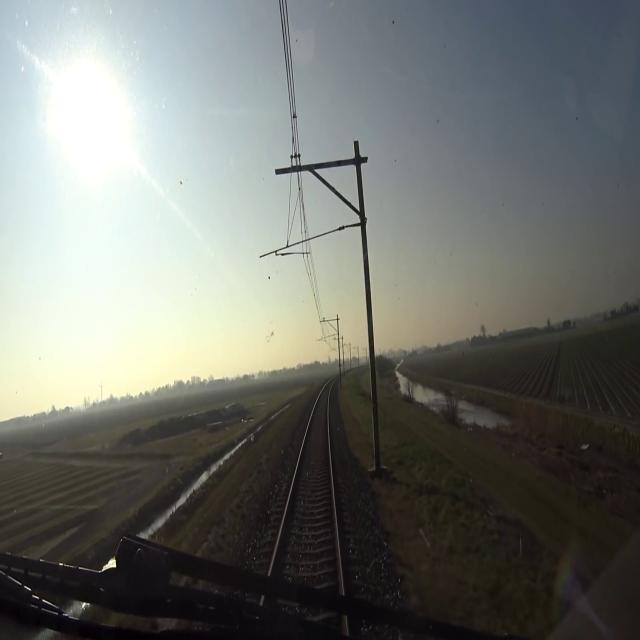rail-track: (272, 385, 341, 599)
